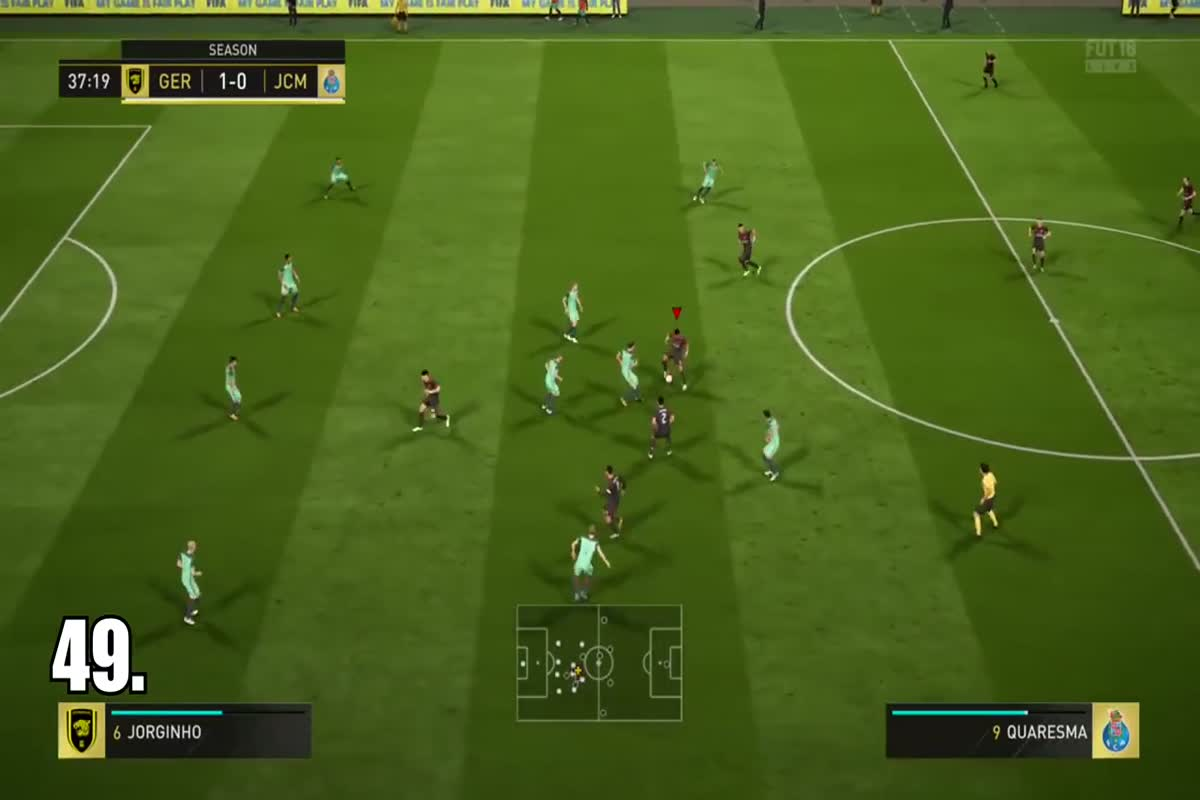ball: (661, 371, 682, 388)
